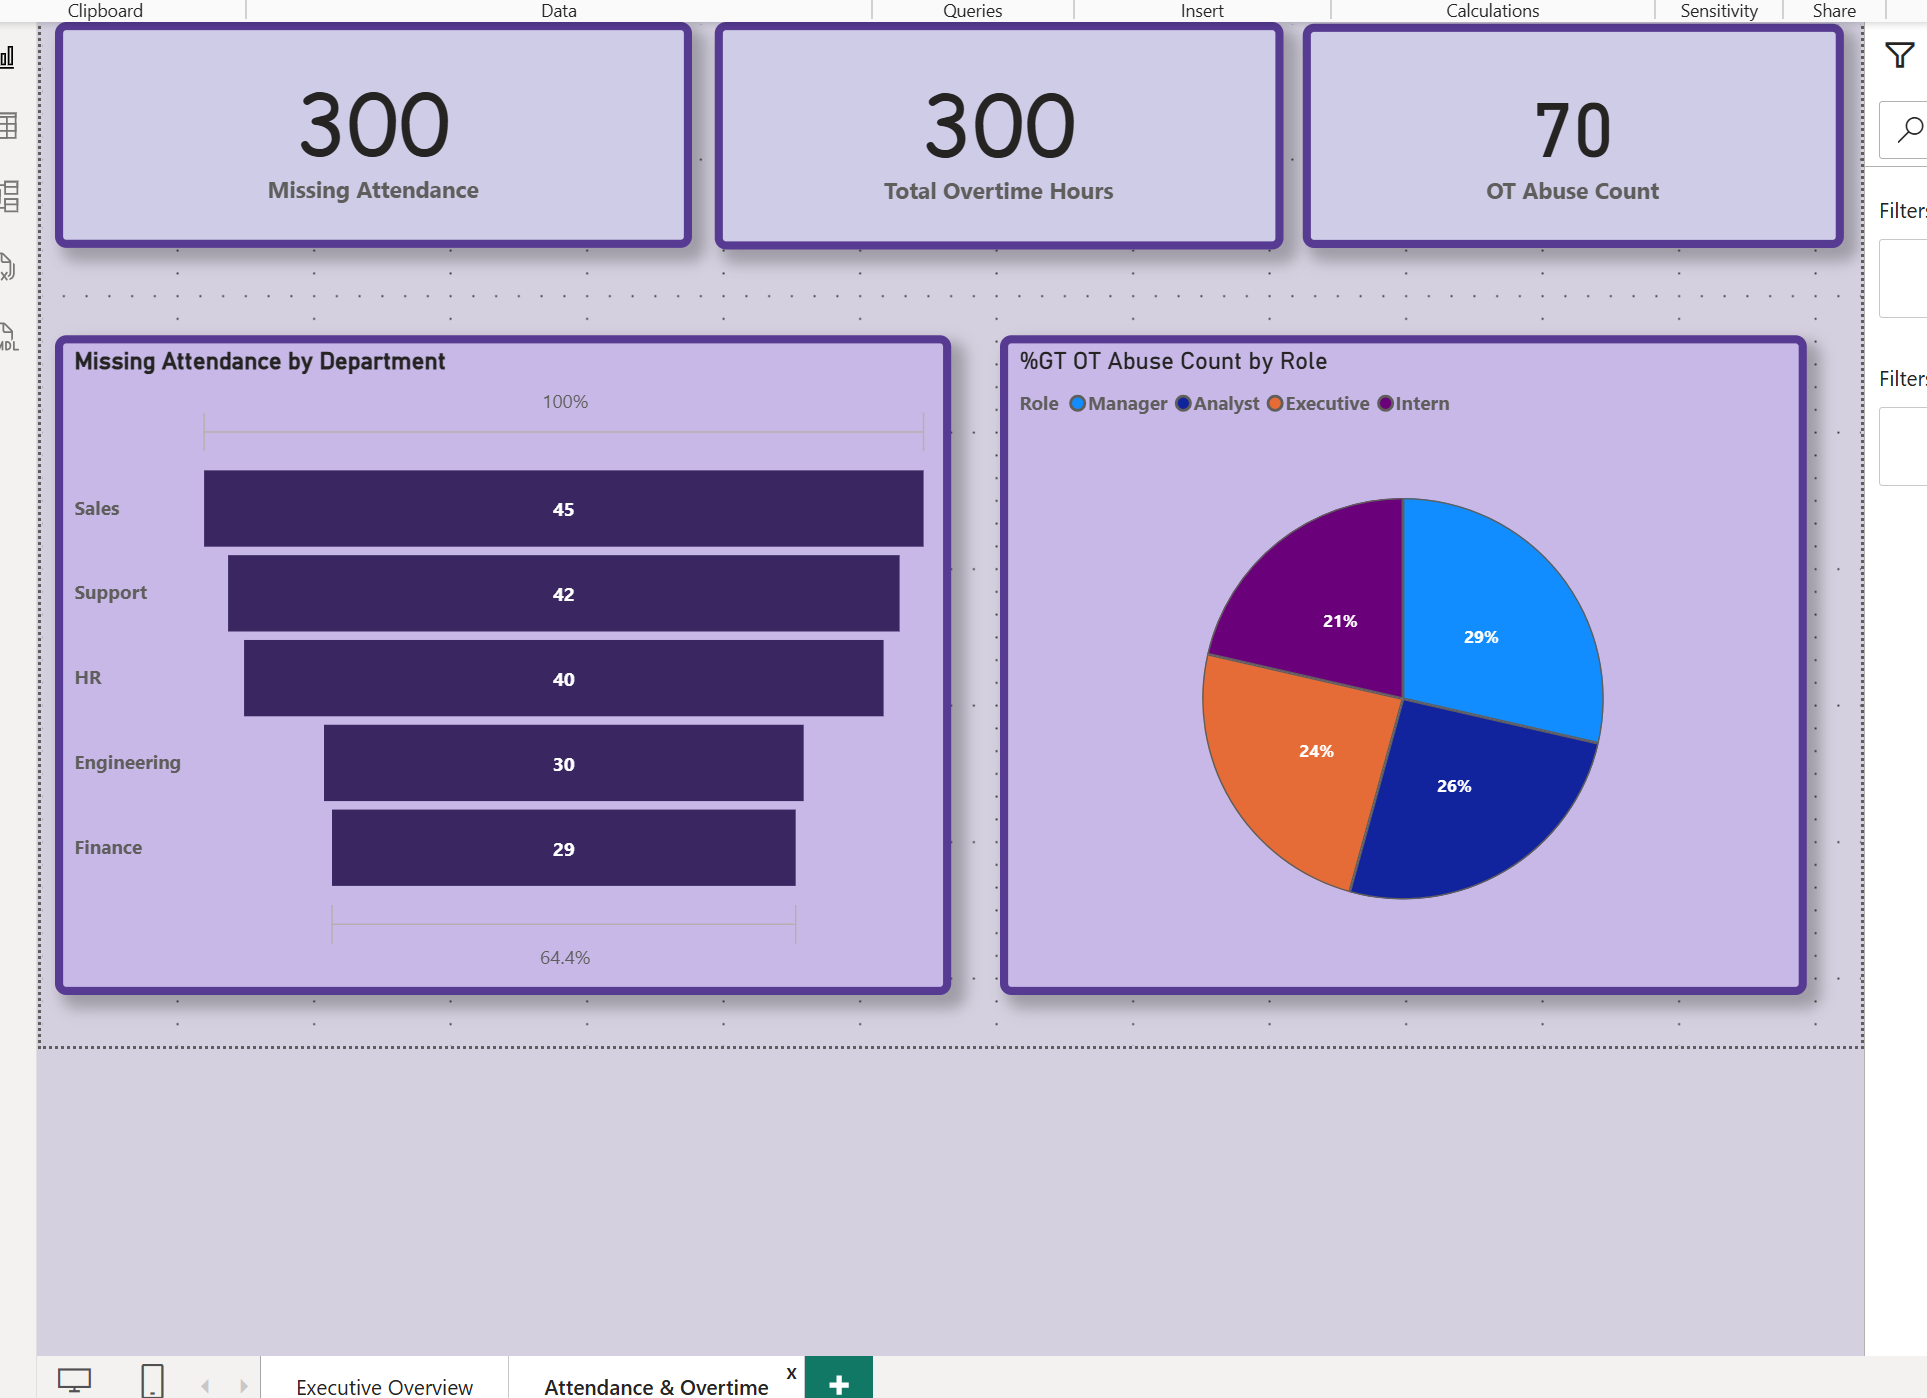

Layout of this report page (visuals, bound fields, positions):
{"tool":"powerbi","page":{"name":"Attendance & Overtime","canvas":[1280,720],"ordinal":1},"visuals":[{"type":"card","fields":{"Values":["CountNonNull(Payroll_Data.Attendance_Flag)"]},"box":[9.8,0,448,158.8],"z":0},{"type":"card","fields":{"Values":["CountNonNull(Payroll_Data.Overtime_Hours)"]},"box":[473.8,0,400,160],"z":1},{"type":"card","fields":{"Values":["Payroll_Data.OT Abuse Count"]},"box":[887.4,1.2,380.3,157.5],"z":2},{"type":"funnel","fields":{"Category":["Payroll_Data.Department"],"Y":["Payroll_Data.Missing Attendance"]},"box":[9.8,220.3,630.2,464],"z":3},{"type":"pieChart","fields":{"Y":["Payroll_Data.OT Abuse Count"],"Category":["Payroll_Data.Role"]},"box":[674.5,220.3,567.4,464],"z":4}]}

Visuals, with their boxes in screenshot pixels (x1, y1, x2, y2):
card - CountNonNull(Payroll_Data.Attendance_Flag): bbox(49, 15, 691, 242)
card - CountNonNull(Payroll_Data.Overtime_Hours): bbox(714, 15, 1286, 244)
card - Payroll_Data.OT Abuse Count: bbox(1306, 17, 1851, 242)
funnel - Payroll_Data.Department x Payroll_Data.Missing Attendance: bbox(49, 331, 952, 995)
pieChart - Payroll_Data.OT Abuse Count x Payroll_Data.Role: bbox(1001, 331, 1814, 995)
